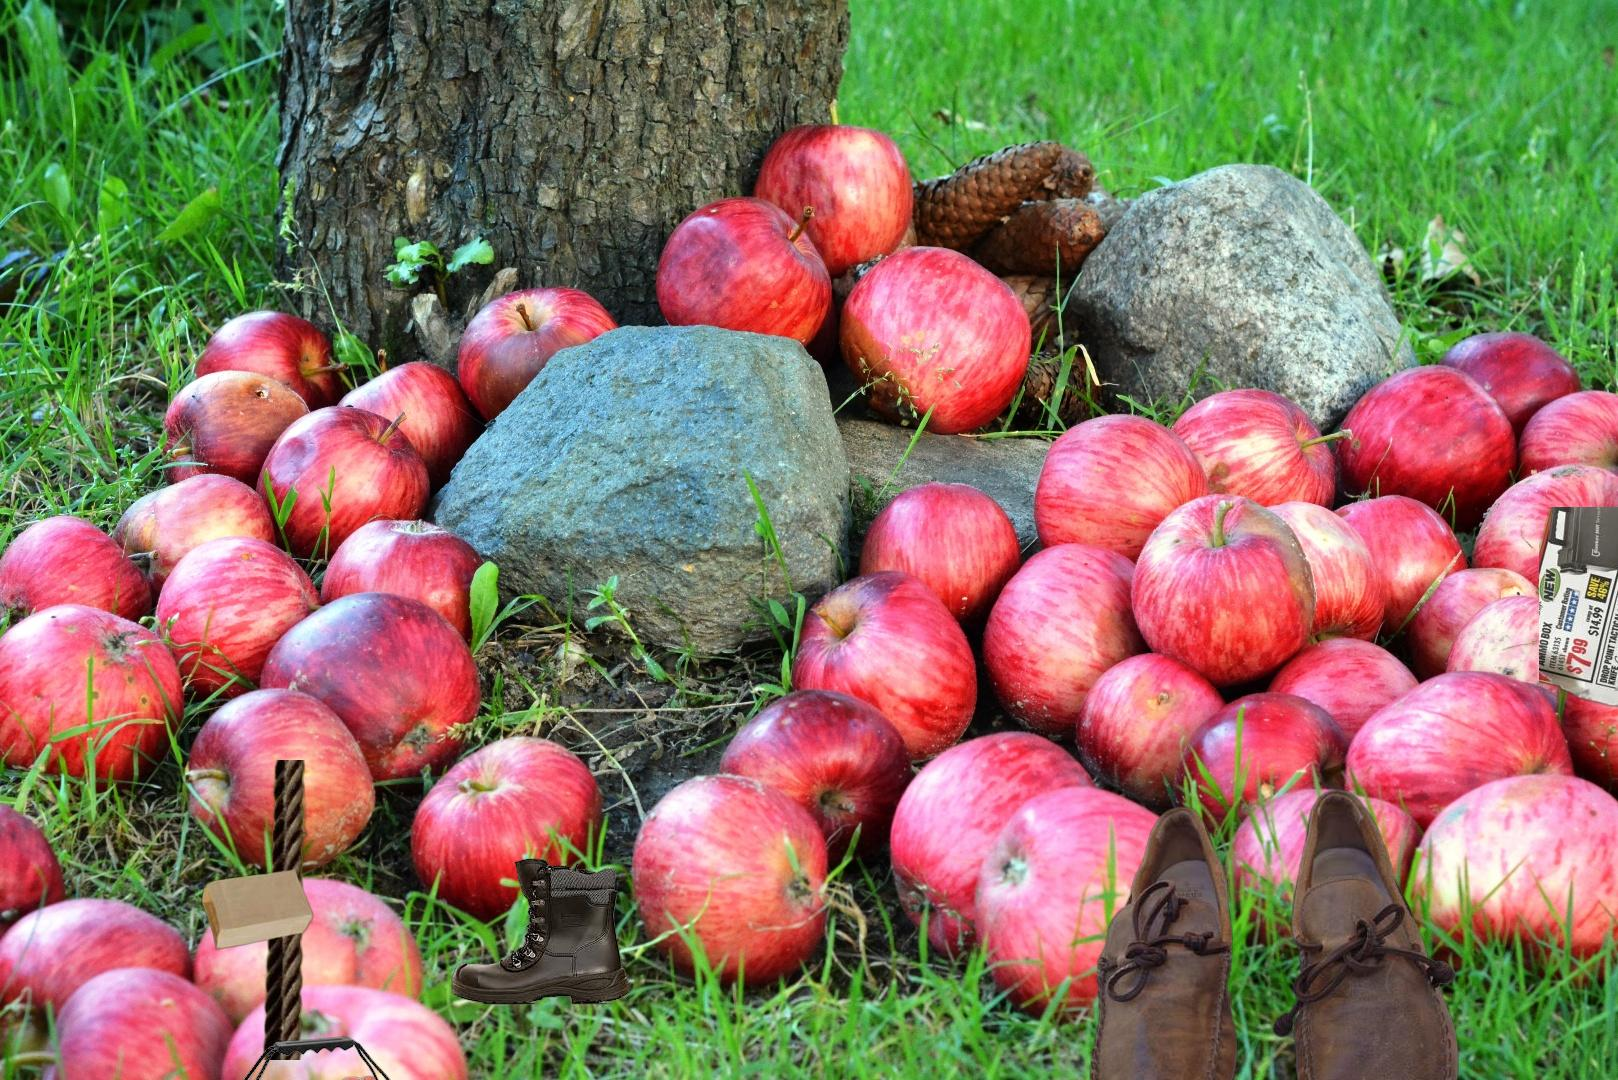battery: (212, 1034, 422, 1080)
paper: (1538, 507, 1618, 790)
paper-bag: (200, 761, 316, 1060)
shoes: (1087, 785, 1461, 1080), (449, 856, 631, 1008)
